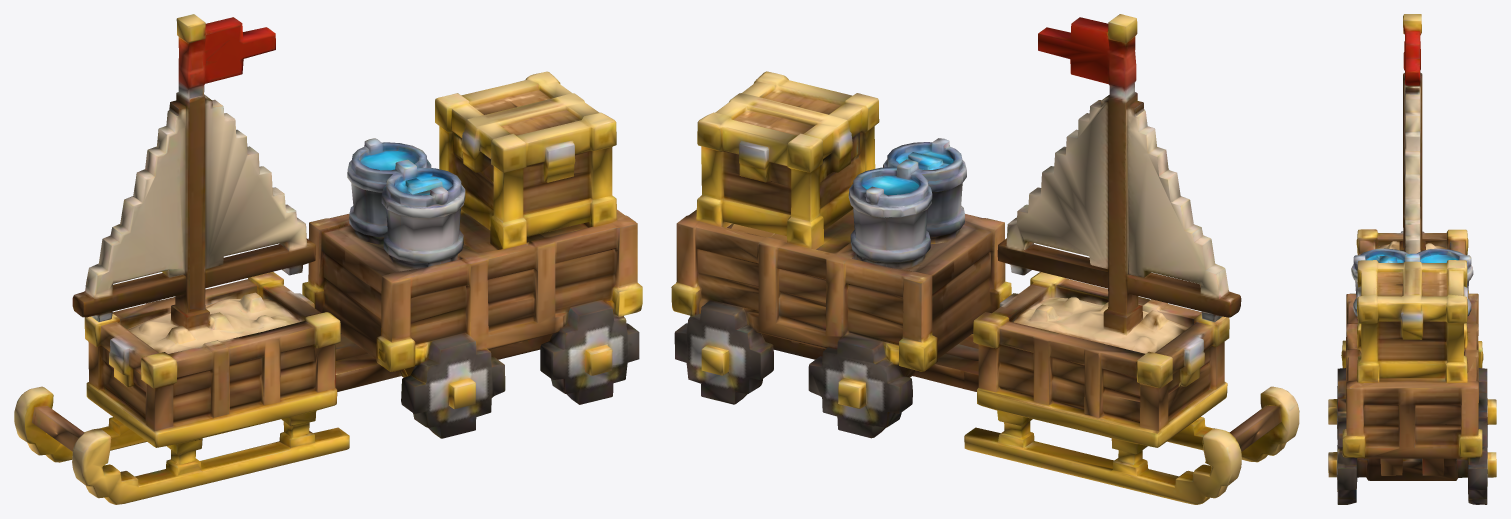
The model's file is cart.glb.
3 views of the same model, side by side, from view 1: azimuth 30°, elevation 25°; view 2: azimuth 150°, elevation 25°; view 3: azimuth 270°, elevation 25° (orthographic). The views are drawn at different scales.
Visible parts, largest first — view 1: node_0; view 2: node_0; view 3: node_0.
Part boxes in pixels (x1,y1,x2,y2): node_0: (14,14,642,504); node_0: (671,14,1299,504); node_0: (1328,14,1496,504).
Bounding box in the file's own units: 0.999 × 0.7546 × 0.3332.
1 material, 1 textured.
